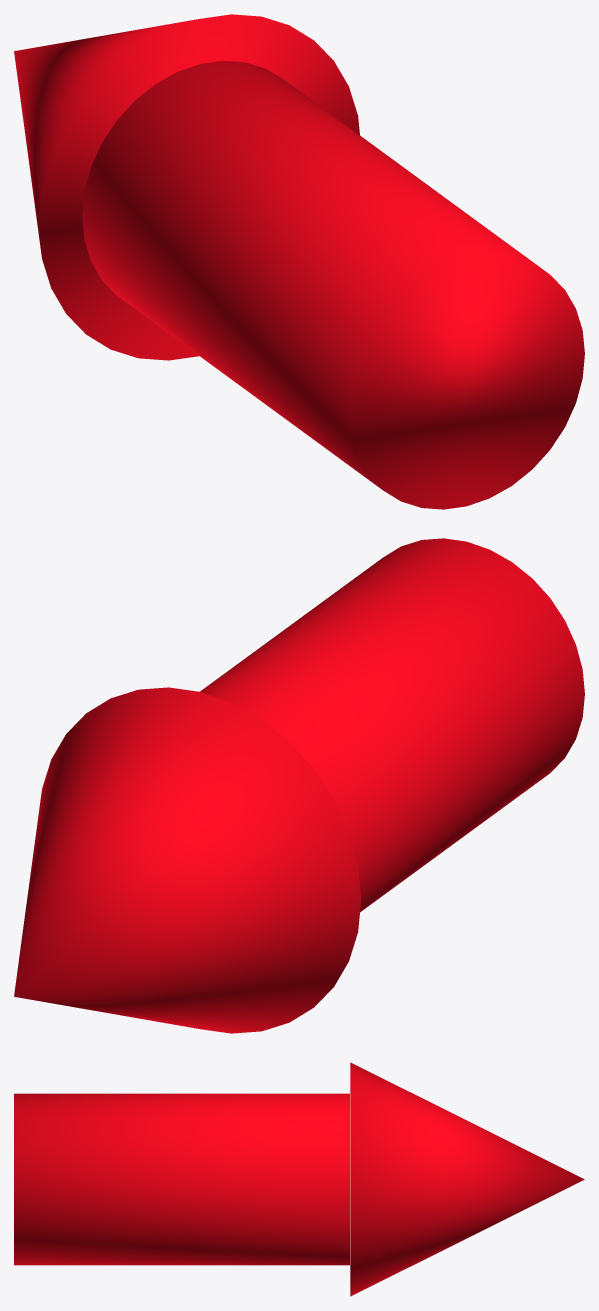
The model's file is arrow.obj.
3 views of the same model, one above another, from view 1: azimuth 30°, elevation 25°; view 2: azimuth 150°, elevation 25°; view 3: azimuth 270°, elevation 25° (orthographic). The views are drawn at different scales.
Visible parts, largest first — view 1: Cylinder; view 2: Cylinder; view 3: Cylinder.
Boxes of the visible parts, box(x1,y1,x2,y2) form: Cylinder: box(14, 14, 584, 509); Cylinder: box(14, 538, 584, 1033); Cylinder: box(14, 1062, 584, 1296).
Size of the model in its own units: 2.73 by 2.73 by 6.63.
1 material, 1 textured.
